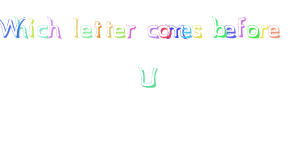U: (137, 66, 158, 88)
W: (1, 17, 21, 38)
b: (212, 15, 226, 39)
c: (36, 24, 50, 38), (146, 24, 159, 39)
e: (267, 23, 281, 39), (79, 24, 93, 38), (180, 23, 192, 39), (113, 24, 125, 39), (224, 23, 236, 38)
f: (236, 14, 246, 38)
h: (47, 15, 62, 40), (14, 16, 29, 38)
i: (28, 18, 37, 38)
l: (71, 15, 80, 39)
m: (166, 23, 185, 39)
o: (158, 24, 171, 40), (246, 23, 259, 37)
r: (258, 23, 269, 39), (126, 25, 136, 39)
s: (192, 23, 203, 39)
t: (104, 19, 113, 39), (93, 18, 101, 38)
